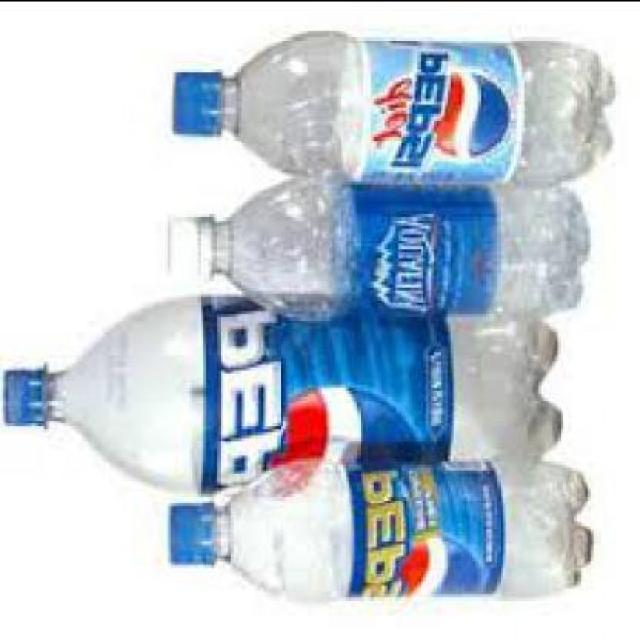PLASTIC: (0, 290, 558, 487), (170, 26, 613, 180), (168, 455, 588, 593), (170, 174, 585, 312), (168, 65, 223, 132), (165, 498, 217, 560), (0, 360, 48, 426), (164, 215, 213, 274)
